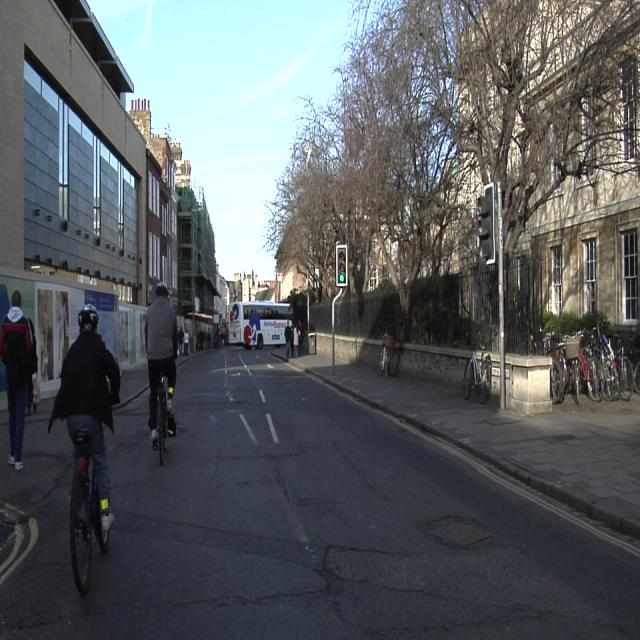Bicyclist: (48, 302, 119, 574), (146, 283, 179, 462)
Building: (11, 0, 217, 393)
Road: (0, 348, 639, 628)
Tree: (276, 2, 639, 307)
Truck_Bus: (228, 301, 288, 347)
person: (1, 290, 36, 466), (284, 321, 293, 356), (296, 320, 303, 355)
